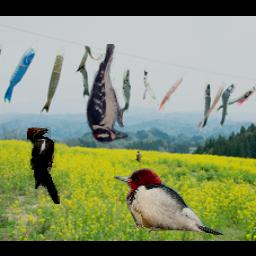Woodpecker: (113, 168, 224, 235), (85, 44, 126, 144), (26, 127, 59, 204)
